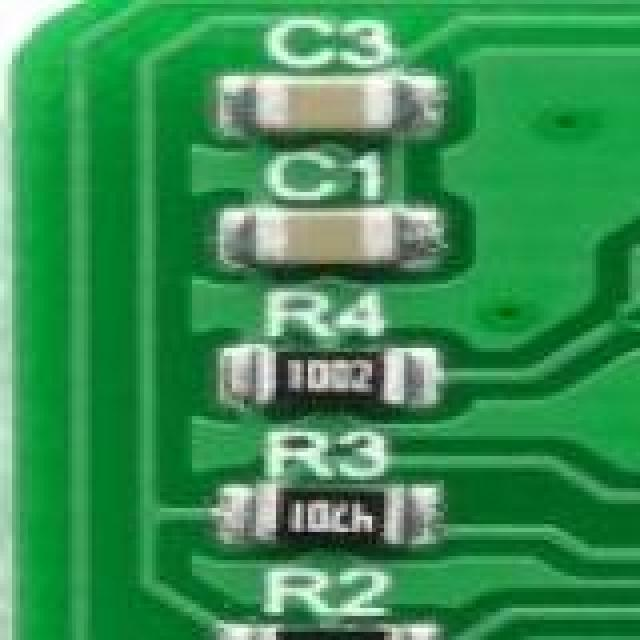capacitor: (248, 76, 446, 130), (248, 212, 420, 262)
resistor: (236, 476, 402, 550), (240, 348, 422, 406), (268, 636, 424, 640)
